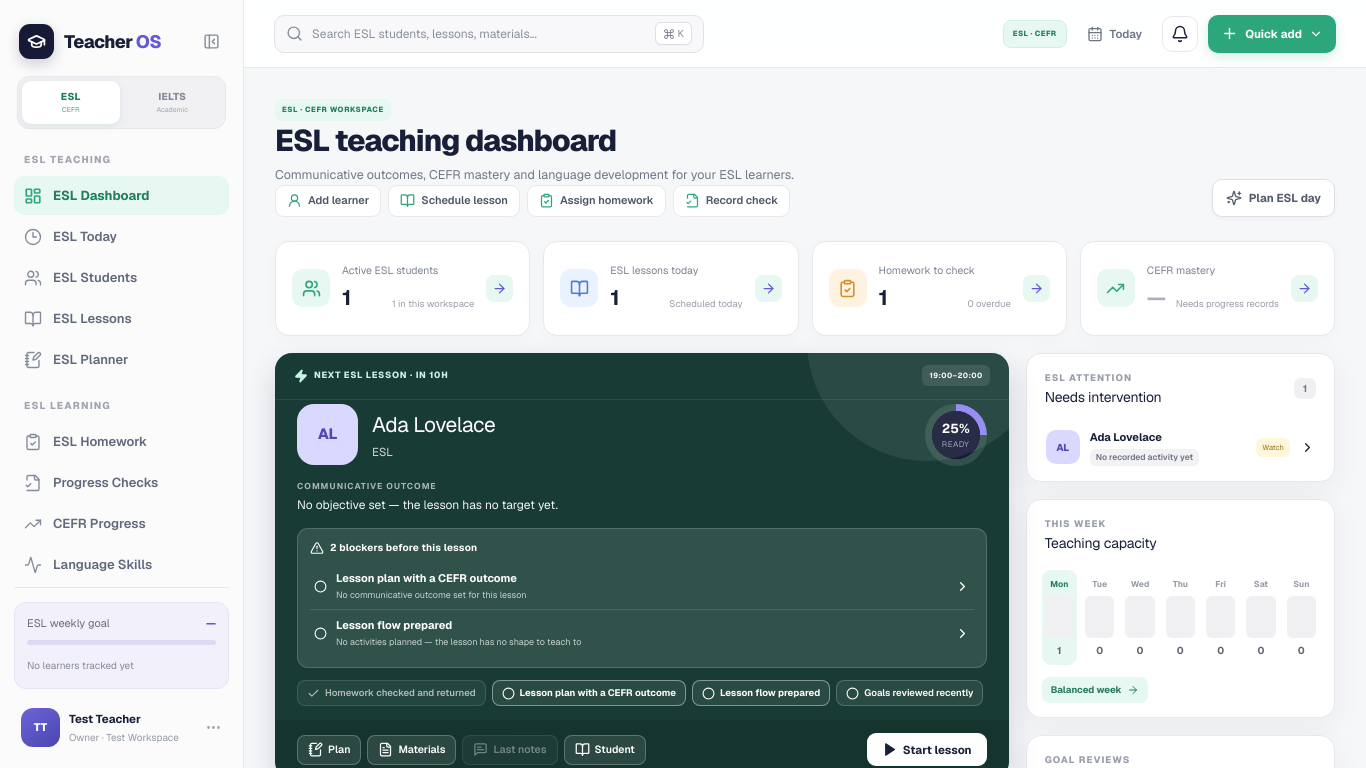
Test: the workspace reaches every teacher-loop screen › opens homework checking with the submitted work loaded
Click the button "ESL Homework" at coordinates (122, 442), box [14,422,229,461]
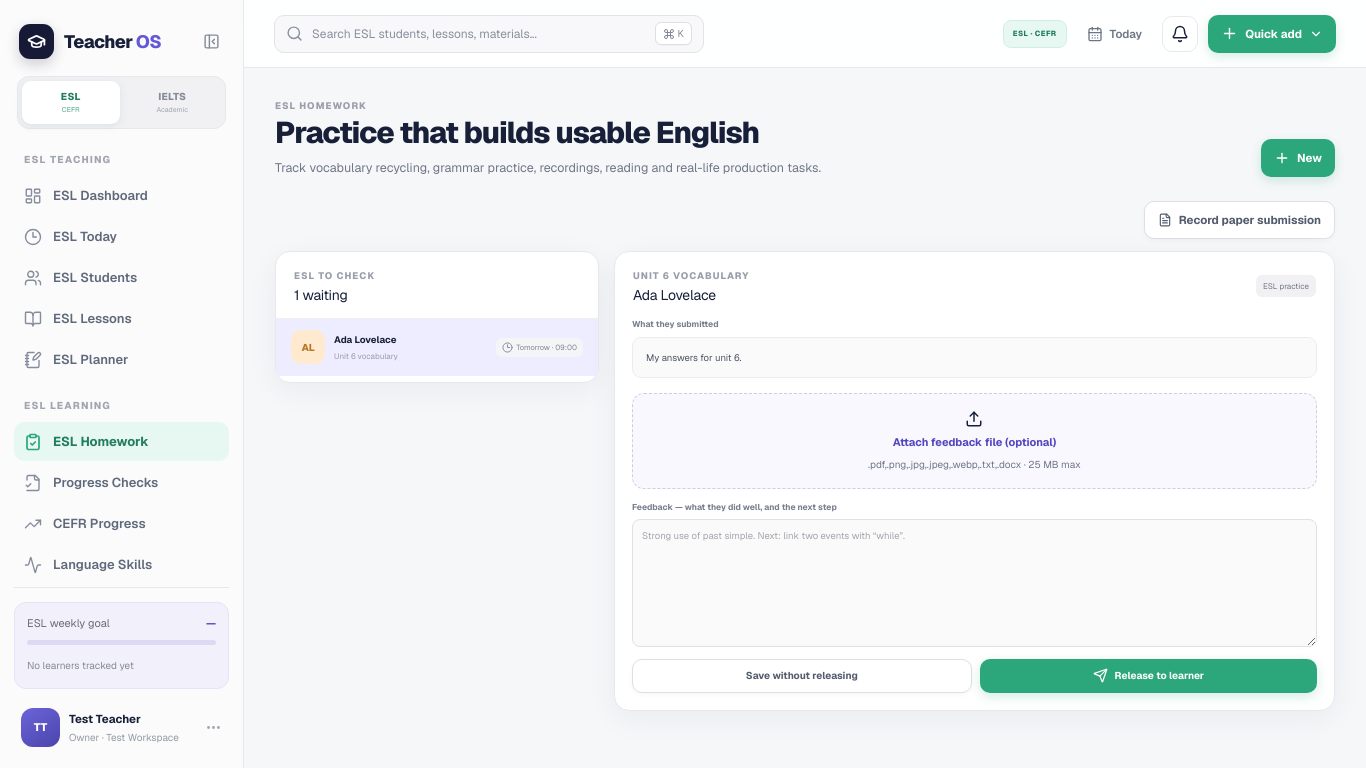
Expected: the text "What they submitted" is shown, [632,318,718,330]
Expected: the text "My answers for unit 6." is shown, [632,337,1317,378]
